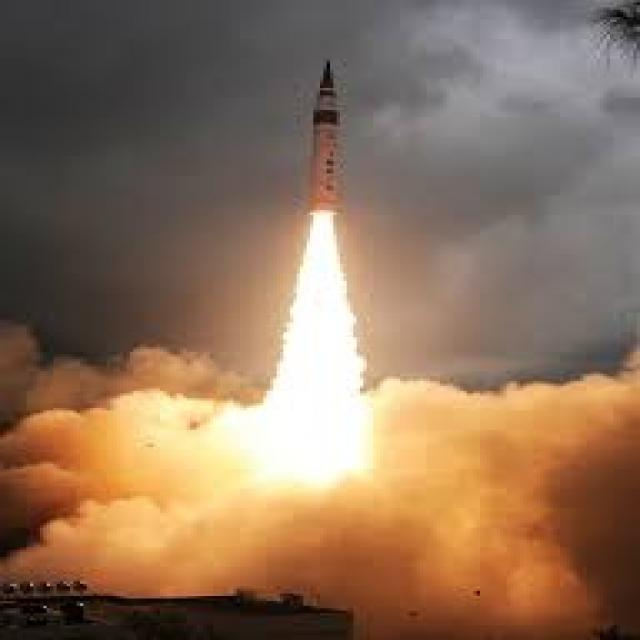Missile: (298, 52, 357, 236)
